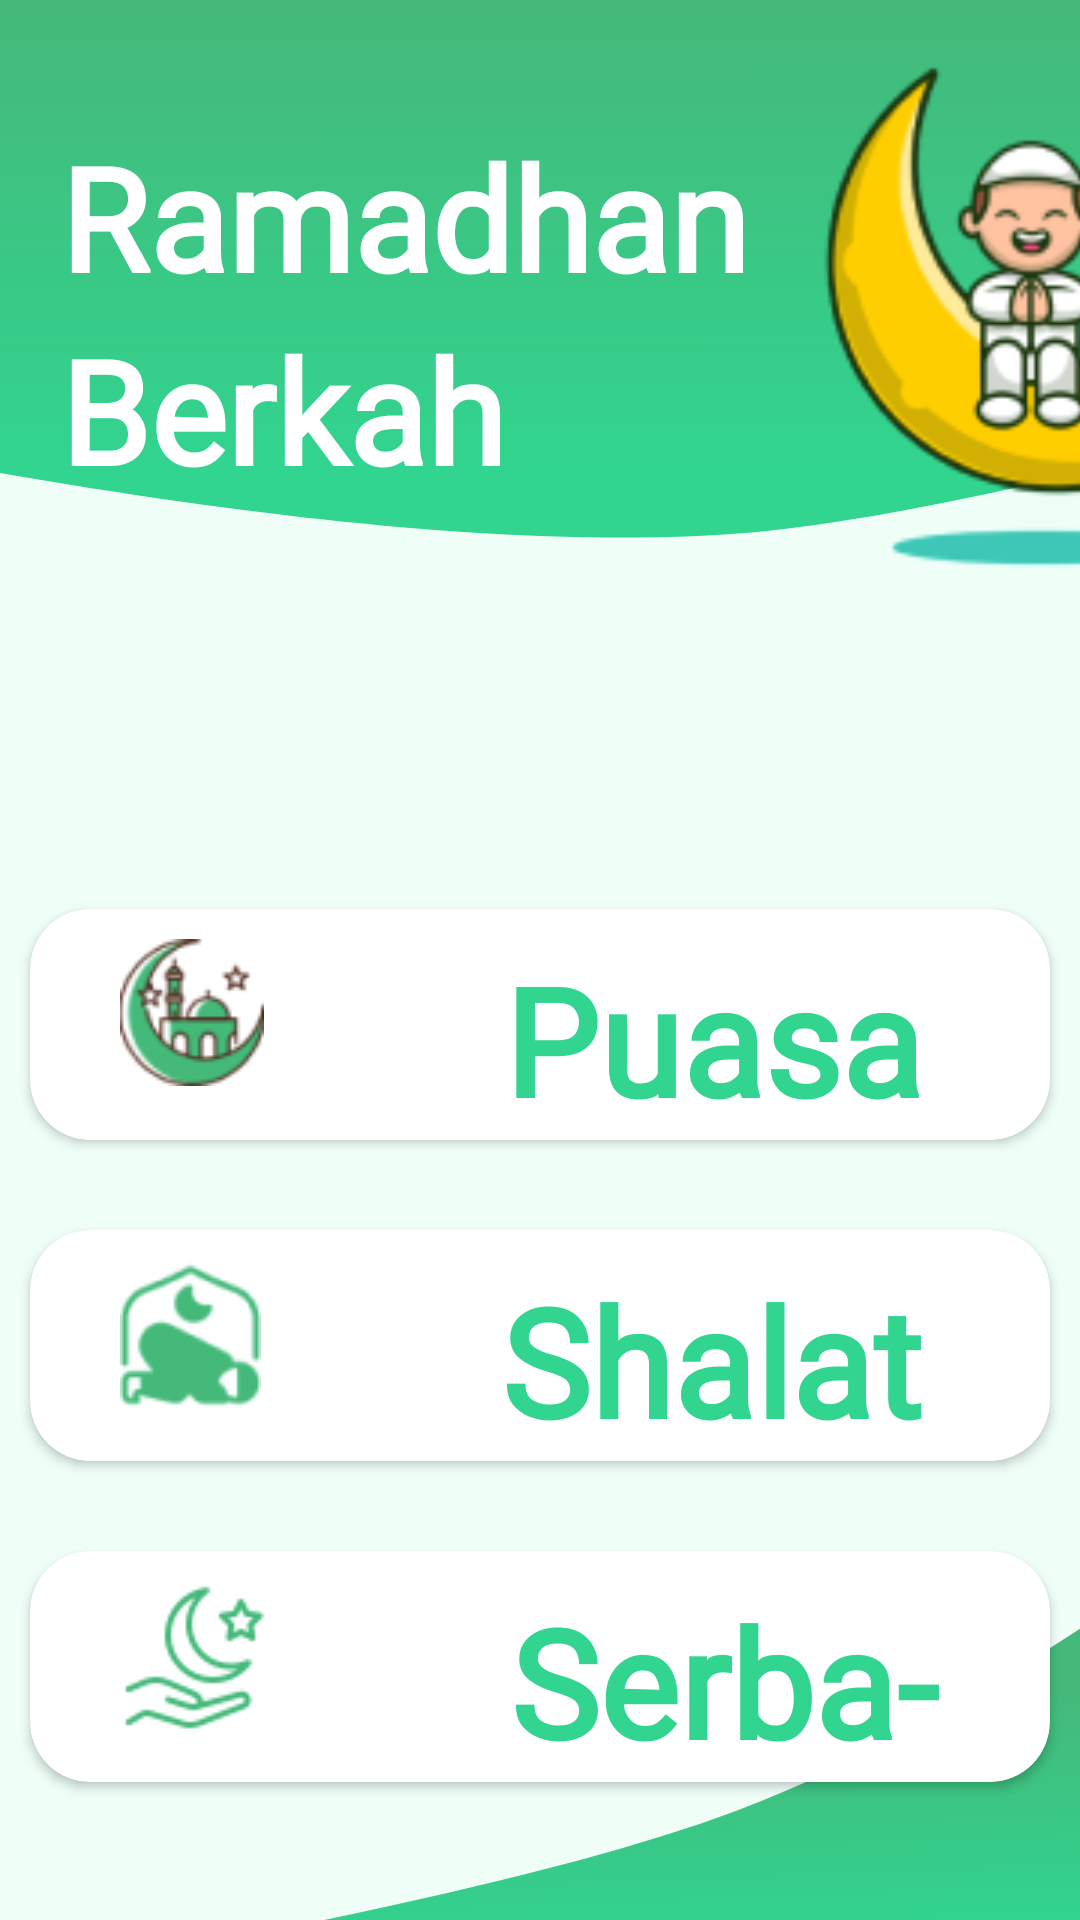

Named icons in this screenshot (1080*1920) and their centers, [x,y]:
puasa: [192,1012]
shalat: [190,1335]
